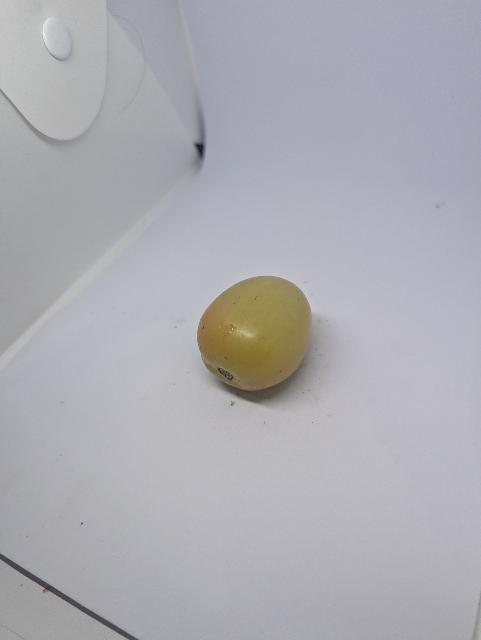breaker: (197, 276, 312, 391)
